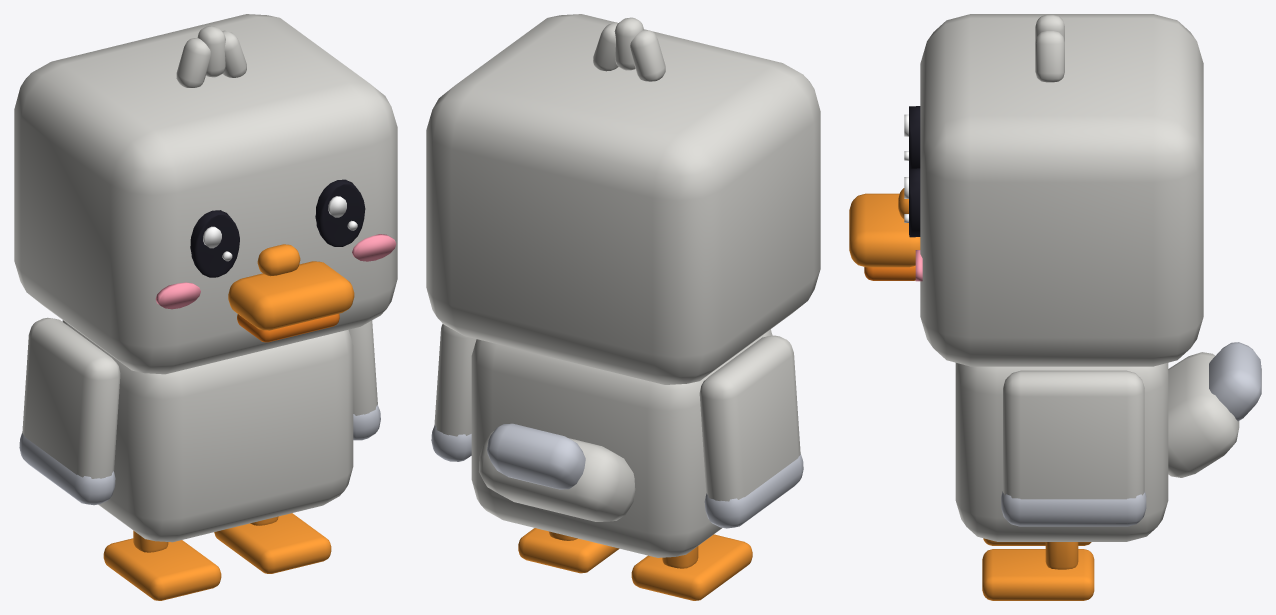
The model's file is goose_stage_1.glb.
3 renders of one model, left to right at view 1: azimuth 30°, elevation 25°; view 2: azimuth 150°, elevation 25°; view 3: azimuth 270°, elevation 25°, orthographic. The views are drawn at different scales.
Visible parts, largest first — view 1: Goose_Stage1_Head, Goose_Stage1_Body, Goose_Stage1_Wing_R, Goose_Stage1_Wing_L; view 2: Goose_Stage1_Head, Goose_Stage1_Body, Goose_Stage1_Wing_R, Goose_Stage1_Wing_L; view 3: Goose_Stage1_Head, Goose_Stage1_Body, Goose_Stage1_Wing_L.
Boxes of the visible parts, <box> form: Goose_Stage1_Head: <box>14,14,397,374</box>; Goose_Stage1_Body: <box>62,320,353,600</box>; Goose_Stage1_Wing_R: <box>19,317,120,505</box>; Goose_Stage1_Wing_L: <box>348,320,380,440</box>; Goose_Stage1_Head: <box>426,14,820,384</box>; Goose_Stage1_Body: <box>471,329,772,600</box>; Goose_Stage1_Wing_R: <box>699,335,803,528</box>; Goose_Stage1_Wing_L: <box>431,324,476,461</box>; Goose_Stage1_Head: <box>849,14,1203,366</box>; Goose_Stage1_Body: <box>955,342,1261,600</box>; Goose_Stage1_Wing_L: <box>1001,370,1146,526</box>.
Size of the model in its own units: 0.6069 by 1.02 by 0.6979.
